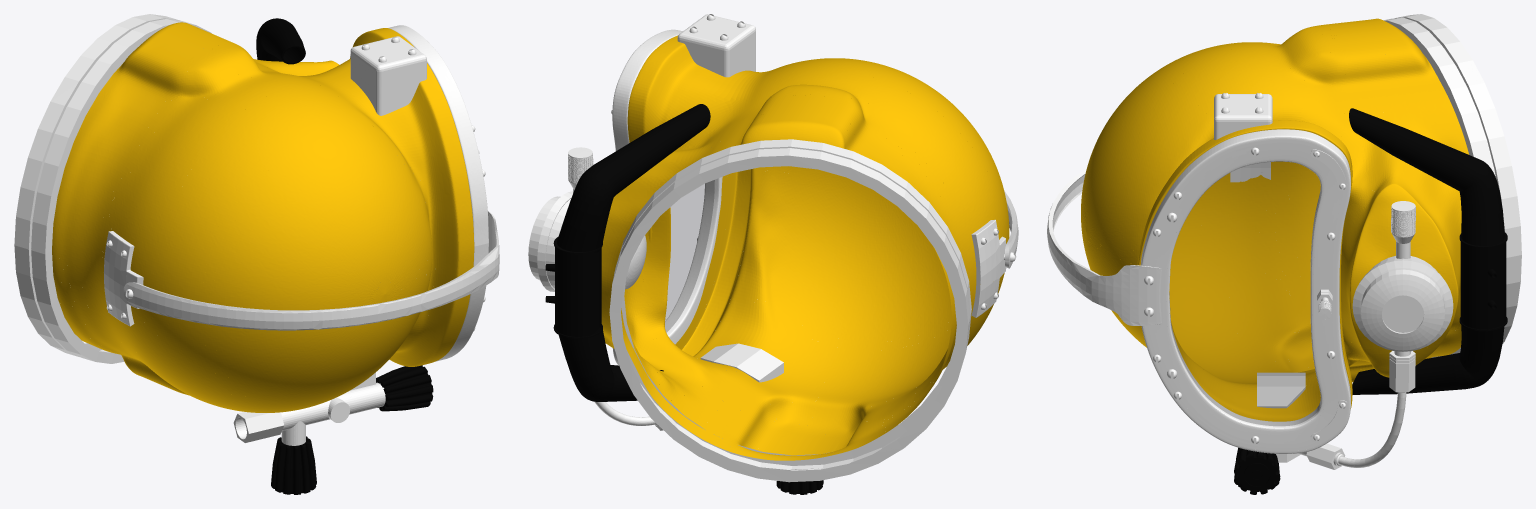
3 views of the same model, side by side, from view 1: azimuth 30°, elevation 25°; view 2: azimuth 150°, elevation 25°; view 3: azimuth 270°, elevation 25° (orthographic). The views are drawn at different scales.
Parts seen in each view (by area): view 1: main_main_0.003, main_main_0.002, matal_metal_0.002, matal_metal_0.003, rubber_rubber_0.001; view 2: main_main_0.002, main_main_0.003, matal_metal_0.002, rubber_rubber_0.001, matal_metal_0.003, glass_glass_0.001; view 3: main_main_0.002, matal_metal_0.002, glass_glass_0.001, main_main_0.003, rubber_rubber_0.001, matal_metal_0.003.
Part boxes in pixels (x1=…): main_main_0.003: x1=55, y1=28, x2=443, y2=412; main_main_0.002: x1=52, y1=22, x2=474, y2=412; matal_metal_0.002: x1=14, y1=14, x2=488, y2=445; matal_metal_0.003: x1=104, y1=25, x2=499, y2=441; rubber_rubber_0.001: x1=256, y1=18, x2=433, y2=494; main_main_0.002: x1=601, y1=35, x2=1005, y2=460; main_main_0.003: x1=601, y1=58, x2=1009, y2=457; matal_metal_0.002: x1=528, y1=14, x2=1016, y2=482; rubber_rubber_0.001: x1=545, y1=104, x2=823, y2=494; matal_metal_0.003: x1=568, y1=29, x2=1018, y2=430; glass_glass_0.001: x1=665, y1=180, x2=714, y2=332; main_main_0.002: x1=1081, y1=18, x2=1468, y2=421; matal_metal_0.002: x1=1142, y1=14, x2=1521, y2=469; glass_glass_0.001: x1=1169, y1=162, x2=1320, y2=425; main_main_0.003: x1=1081, y1=26, x2=1461, y2=418; rubber_rubber_0.001: x1=1234, y1=108, x2=1507, y2=494; matal_metal_0.003: x1=1047, y1=129, x2=1415, y2=469.
Bounding box in the file's own units: 268 × 273 × 276.
